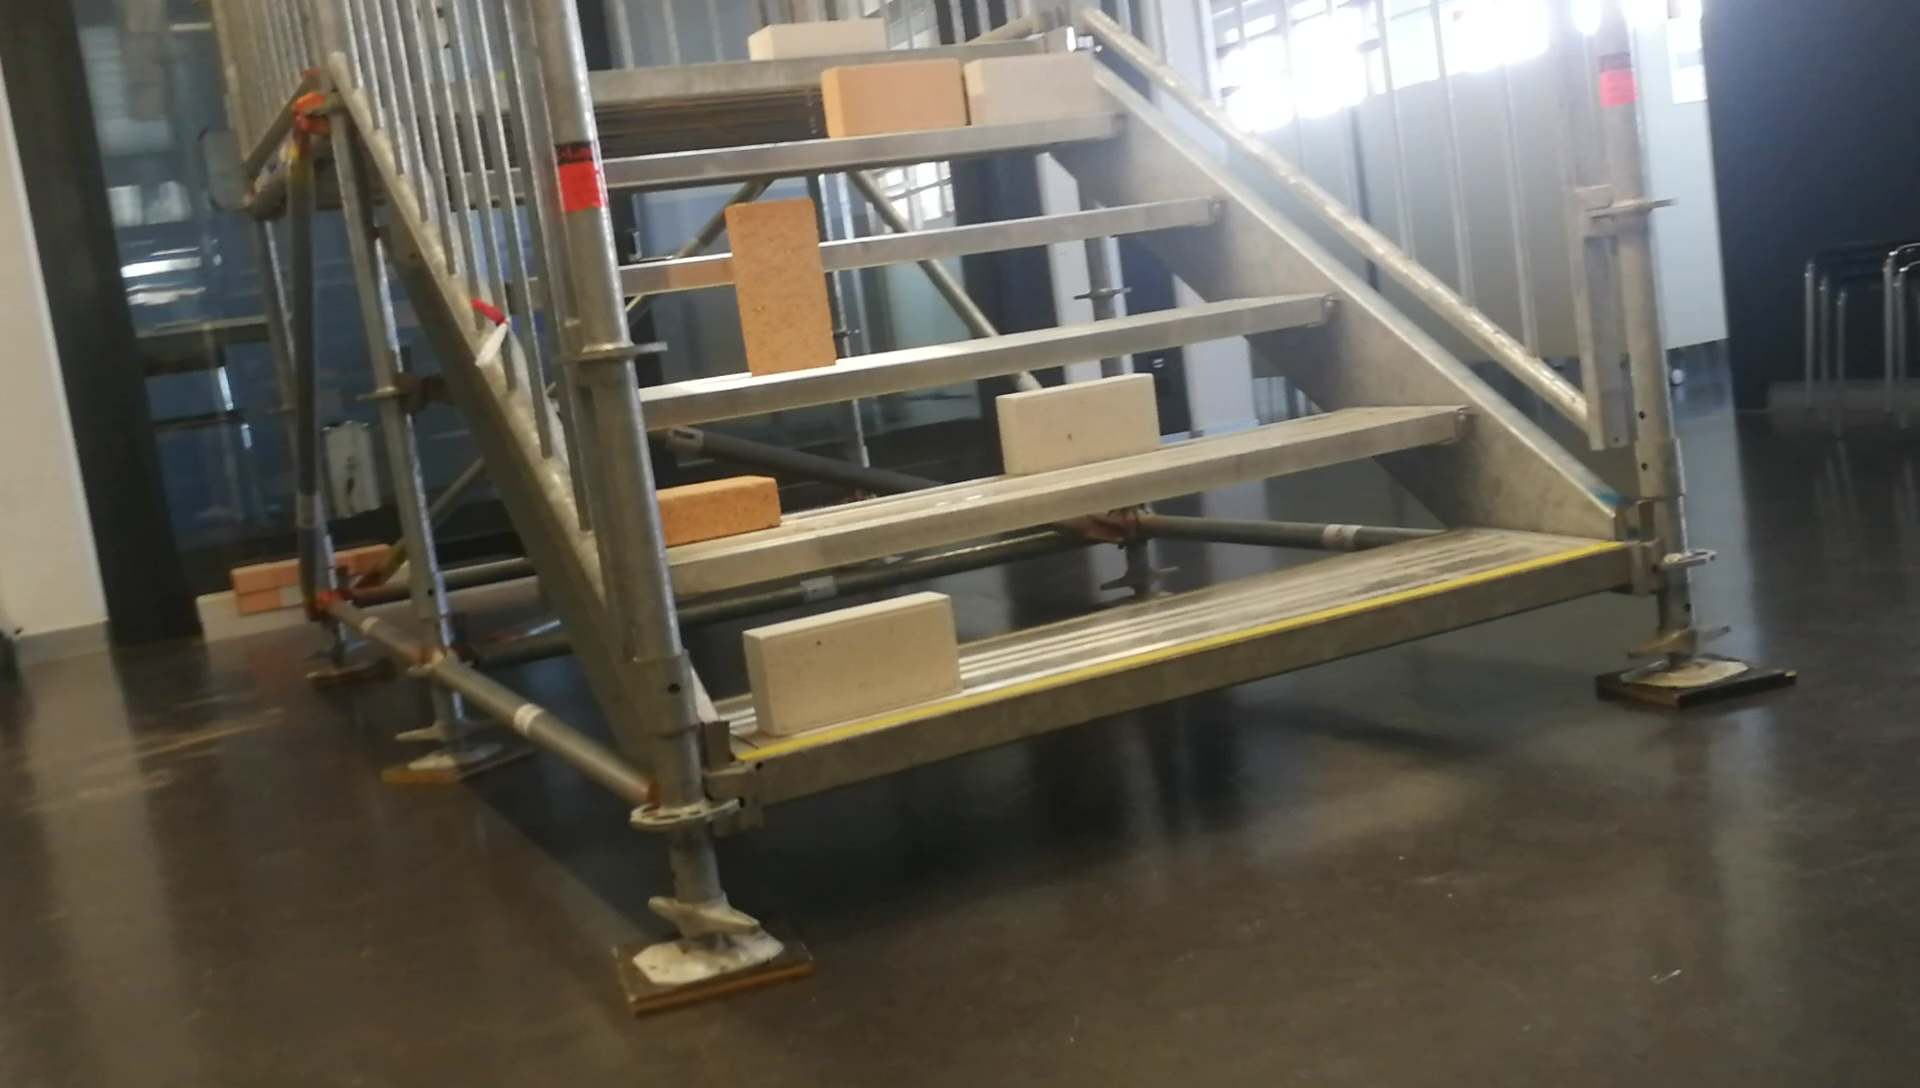brick: (746, 591, 955, 735), (725, 200, 833, 373), (1001, 376, 1155, 472), (824, 62, 960, 135), (967, 53, 1095, 123), (659, 473, 779, 547), (752, 18, 884, 58)
edge: (757, 550, 1629, 804), (669, 385, 1465, 611), (644, 293, 1342, 426), (617, 196, 1226, 291), (608, 111, 1127, 185), (585, 42, 1071, 92)
stairs: (535, 5, 1795, 1015)
steps: (572, 13, 1650, 832)
